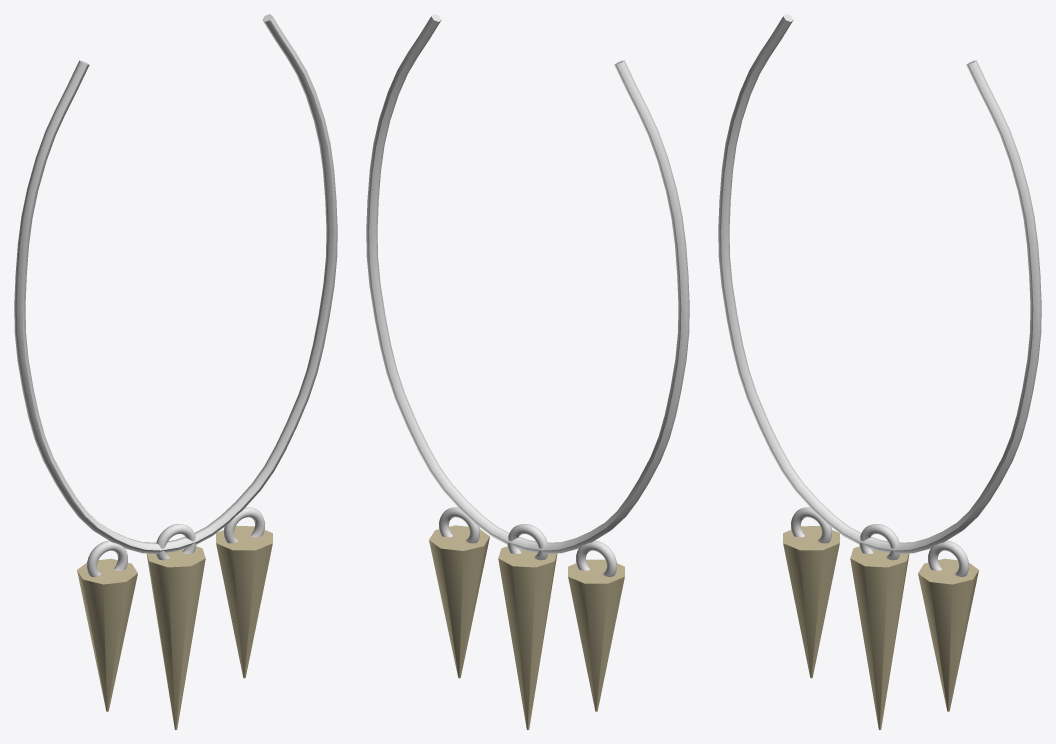
Rendered from wolf_tooth_amulet.glb.
3 views of the same model, side by side, from view 1: azimuth 30°, elevation 25°; view 2: azimuth 150°, elevation 25°; view 3: azimuth 330°, elevation 25° (orthographic).
Visible parts, largest first — view 1: wolf_tooth_amulet; view 2: wolf_tooth_amulet; view 3: wolf_tooth_amulet.
Boxes of the visible parts, x1,y1,x2,y2 form: wolf_tooth_amulet: [14, 14, 337, 729]; wolf_tooth_amulet: [366, 14, 689, 729]; wolf_tooth_amulet: [718, 14, 1041, 729].
Size of the model in its own units: 0.1442 by 0.297 by 0.024.
